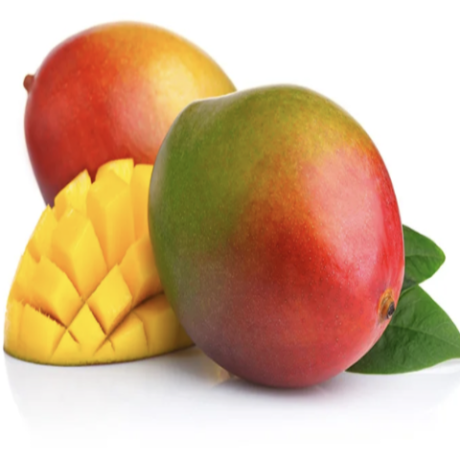mango: (136, 77, 425, 396), (0, 9, 270, 262)
